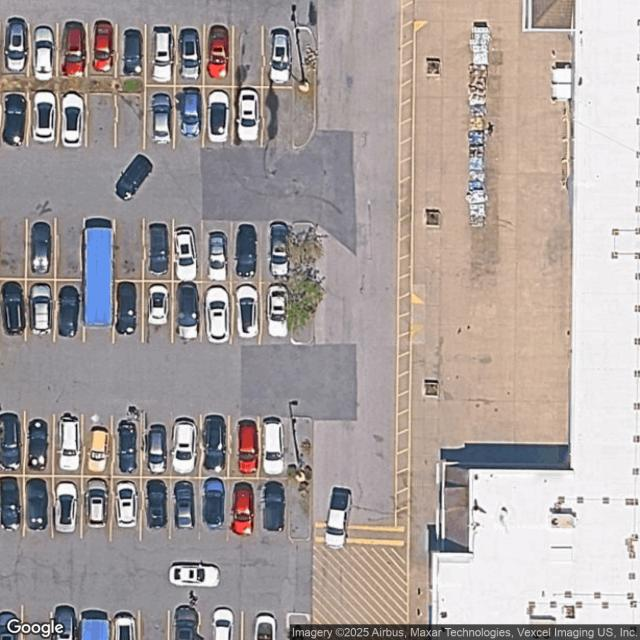car: (203, 284, 231, 344), (176, 280, 202, 341), (202, 414, 228, 472), (0, 279, 25, 337), (234, 222, 259, 280), (0, 412, 24, 472), (2, 92, 28, 146), (205, 88, 230, 144), (29, 219, 53, 277), (266, 221, 290, 279), (31, 91, 57, 144), (204, 475, 229, 530), (235, 90, 260, 144), (90, 18, 114, 74), (114, 280, 138, 336), (236, 283, 260, 339), (5, 16, 28, 74), (263, 480, 288, 533), (151, 24, 173, 84), (270, 24, 292, 84), (29, 282, 53, 337), (56, 284, 80, 338), (150, 90, 173, 146), (117, 417, 140, 473), (62, 20, 84, 78), (145, 478, 169, 531), (60, 93, 83, 148), (147, 222, 170, 277), (174, 420, 197, 475), (236, 418, 259, 473), (32, 24, 54, 81), (268, 283, 290, 340), (174, 228, 198, 280), (26, 477, 49, 531), (58, 413, 79, 472), (233, 480, 255, 536), (207, 229, 229, 284), (264, 418, 284, 477), (181, 27, 202, 82), (174, 479, 196, 531), (86, 479, 108, 531), (180, 86, 201, 139), (146, 424, 168, 474), (27, 419, 47, 473), (56, 480, 76, 533), (122, 26, 142, 77), (148, 281, 170, 327), (117, 480, 138, 528), (3, 476, 20, 534), (211, 23, 228, 78), (90, 423, 108, 473), (210, 606, 234, 640), (174, 603, 196, 640), (54, 606, 75, 640), (254, 611, 278, 640), (0, 610, 20, 639), (117, 611, 135, 640)
lot_boundary: (0, 0, 295, 639)
objects: (86, 222, 113, 337), (1, 79, 146, 91), (79, 613, 112, 640)
stall: (234, 89, 266, 148), (263, 28, 294, 86), (205, 86, 233, 146), (146, 86, 174, 146), (175, 86, 203, 146), (234, 27, 262, 87), (144, 220, 172, 280), (264, 88, 292, 148), (114, 281, 142, 341), (232, 222, 260, 282), (174, 221, 202, 281), (114, 220, 142, 280), (261, 282, 289, 342), (26, 279, 54, 339), (114, 416, 142, 476), (54, 415, 82, 475), (230, 418, 258, 478), (200, 416, 228, 476), (200, 478, 228, 538), (230, 478, 258, 538), (260, 478, 288, 538), (26, 415, 54, 475), (112, 477, 140, 537), (146, 26, 174, 85), (261, 223, 289, 282), (204, 222, 232, 281), (232, 283, 260, 342), (204, 282, 232, 341), (174, 282, 202, 341), (144, 281, 172, 340), (27, 219, 55, 278), (56, 220, 84, 279), (56, 280, 84, 339), (144, 416, 172, 475), (84, 417, 112, 476), (260, 418, 288, 477), (172, 417, 200, 476), (142, 477, 170, 536), (170, 478, 198, 537), (25, 477, 53, 536), (54, 478, 82, 537), (82, 478, 110, 537), (28, 93, 58, 148), (176, 26, 203, 86), (87, 93, 116, 148), (0, 93, 29, 148), (29, 21, 58, 76), (206, 27, 233, 86), (0, 219, 27, 278), (116, 94, 145, 148), (58, 93, 87, 147), (117, 25, 146, 79), (59, 21, 88, 75), (2, 21, 30, 76), (88, 23, 116, 77), (0, 280, 25, 339), (0, 415, 24, 474), (0, 476, 23, 534), (242, 613, 286, 640), (199, 613, 241, 640), (149, 612, 179, 640), (109, 613, 140, 640), (168, 613, 198, 640), (24, 613, 52, 640), (54, 613, 79, 640), (0, 613, 22, 640)
